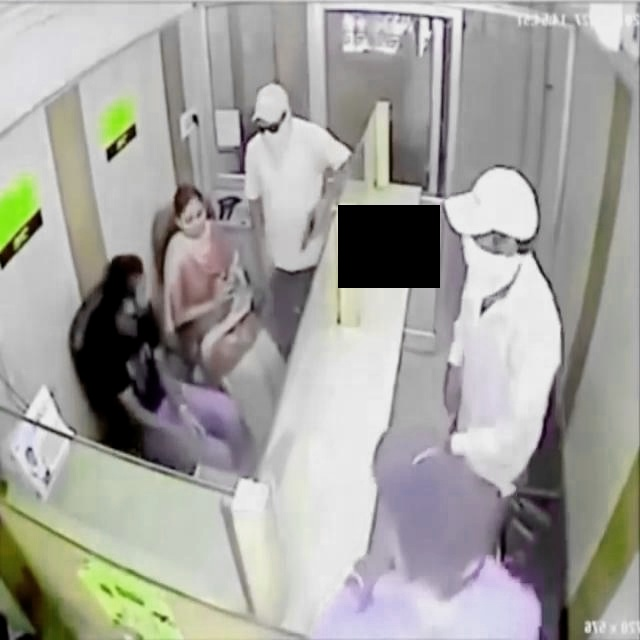gun: (300, 203, 318, 256)
